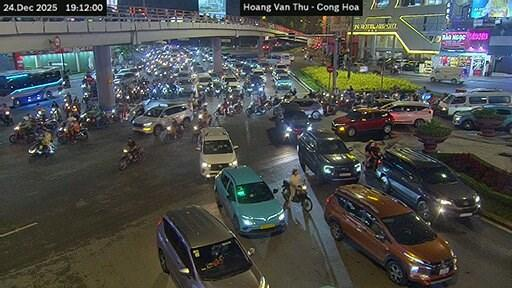motorbike: (28, 136, 54, 162), (56, 126, 88, 144), (291, 184, 312, 211), (192, 113, 211, 142), (118, 147, 143, 169), (9, 126, 35, 143), (80, 112, 108, 126), (245, 100, 268, 117), (163, 125, 181, 143), (364, 153, 380, 171), (214, 103, 233, 116), (281, 180, 290, 201), (231, 99, 243, 112), (0, 111, 12, 124), (48, 108, 60, 121), (61, 76, 70, 88)
